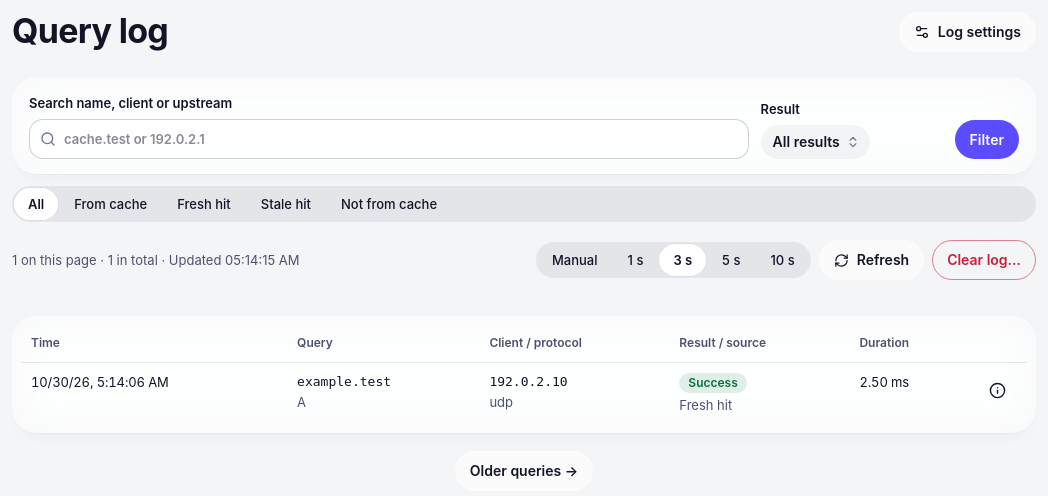
LogsPage detail card › closes on Escape without taking focus from an unrelated control
Click the button with class "log-detail-button".
click(997, 390)  # box [977, 372, 1017, 410]
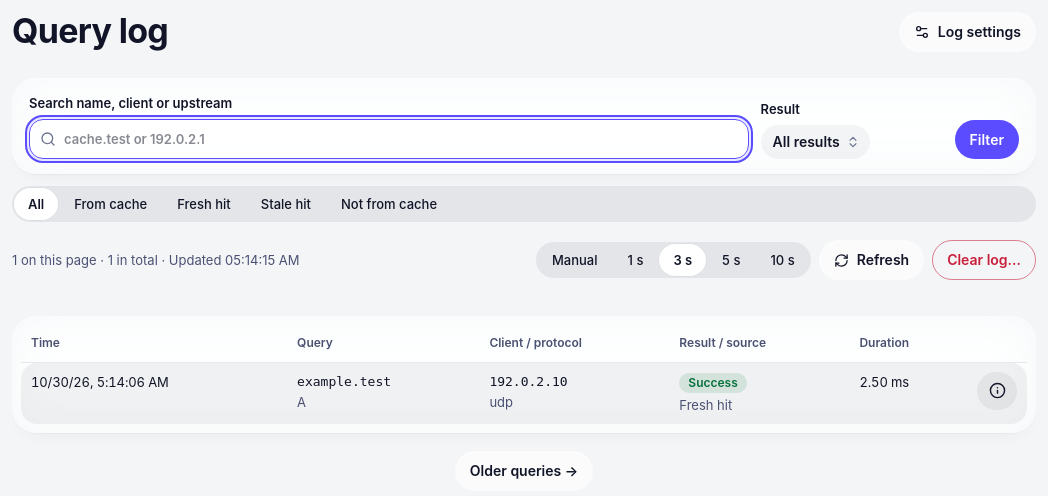
Press Escape in the search field, box [29, 119, 749, 159]
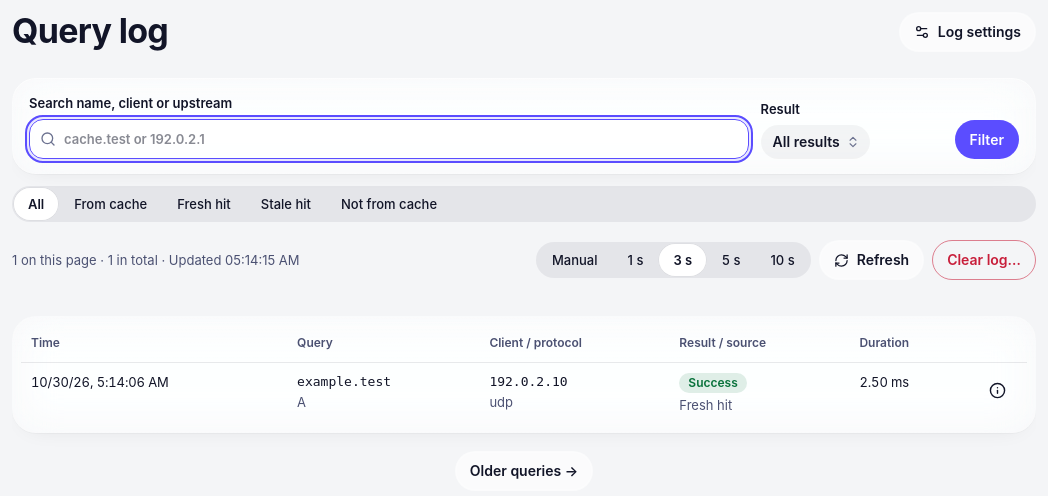
Expected: the button with class "log-detail-button" is collapsed, [977, 372, 1017, 410]
